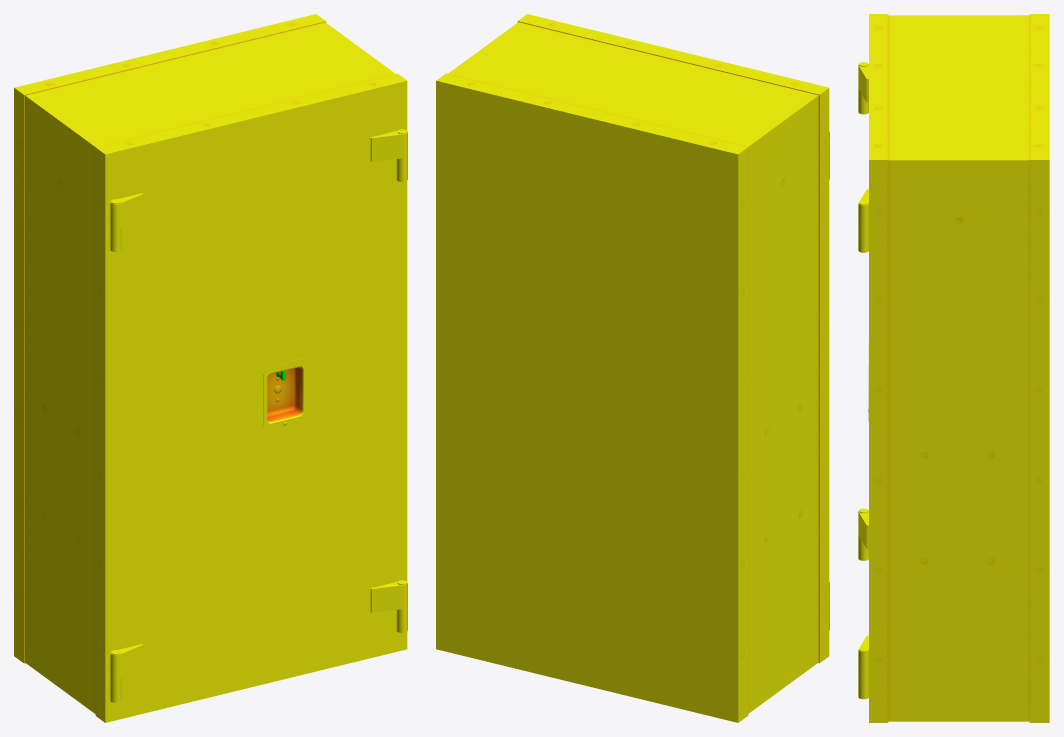
The model's file is LockerLODs.fbx.
3 views of the same model, side by side, from view 1: azimuth 30°, elevation 25°; view 2: azimuth 150°, elevation 25°; view 3: azimuth 270°, elevation 25° (orthographic).
Visible parts, largest first — view 1: LockerBase_LOD0, LockerDoorLeft_LOD0, LockerDoorRight_LOD0; view 2: LockerBase_LOD0; view 3: LockerBase_LOD0, LockerDoorLeft_LOD0, LockerDoorRight_LOD0.
Boxes of the visible parts, x1,y1,x2,y2 form: LockerBase_LOD0: (14,14,407,722); LockerDoorLeft_LOD0: (256,98,407,671); LockerDoorRight_LOD0: (110,132,256,705); LockerBase_LOD0: (436,14,829,722); LockerBase_LOD0: (869,14,1049,722); LockerDoorLeft_LOD0: (858,189,868,699); LockerDoorRight_LOD0: (858,62,868,560).
Size of what is drawn, in the model's own units: 133 by 239 by 73.66.
